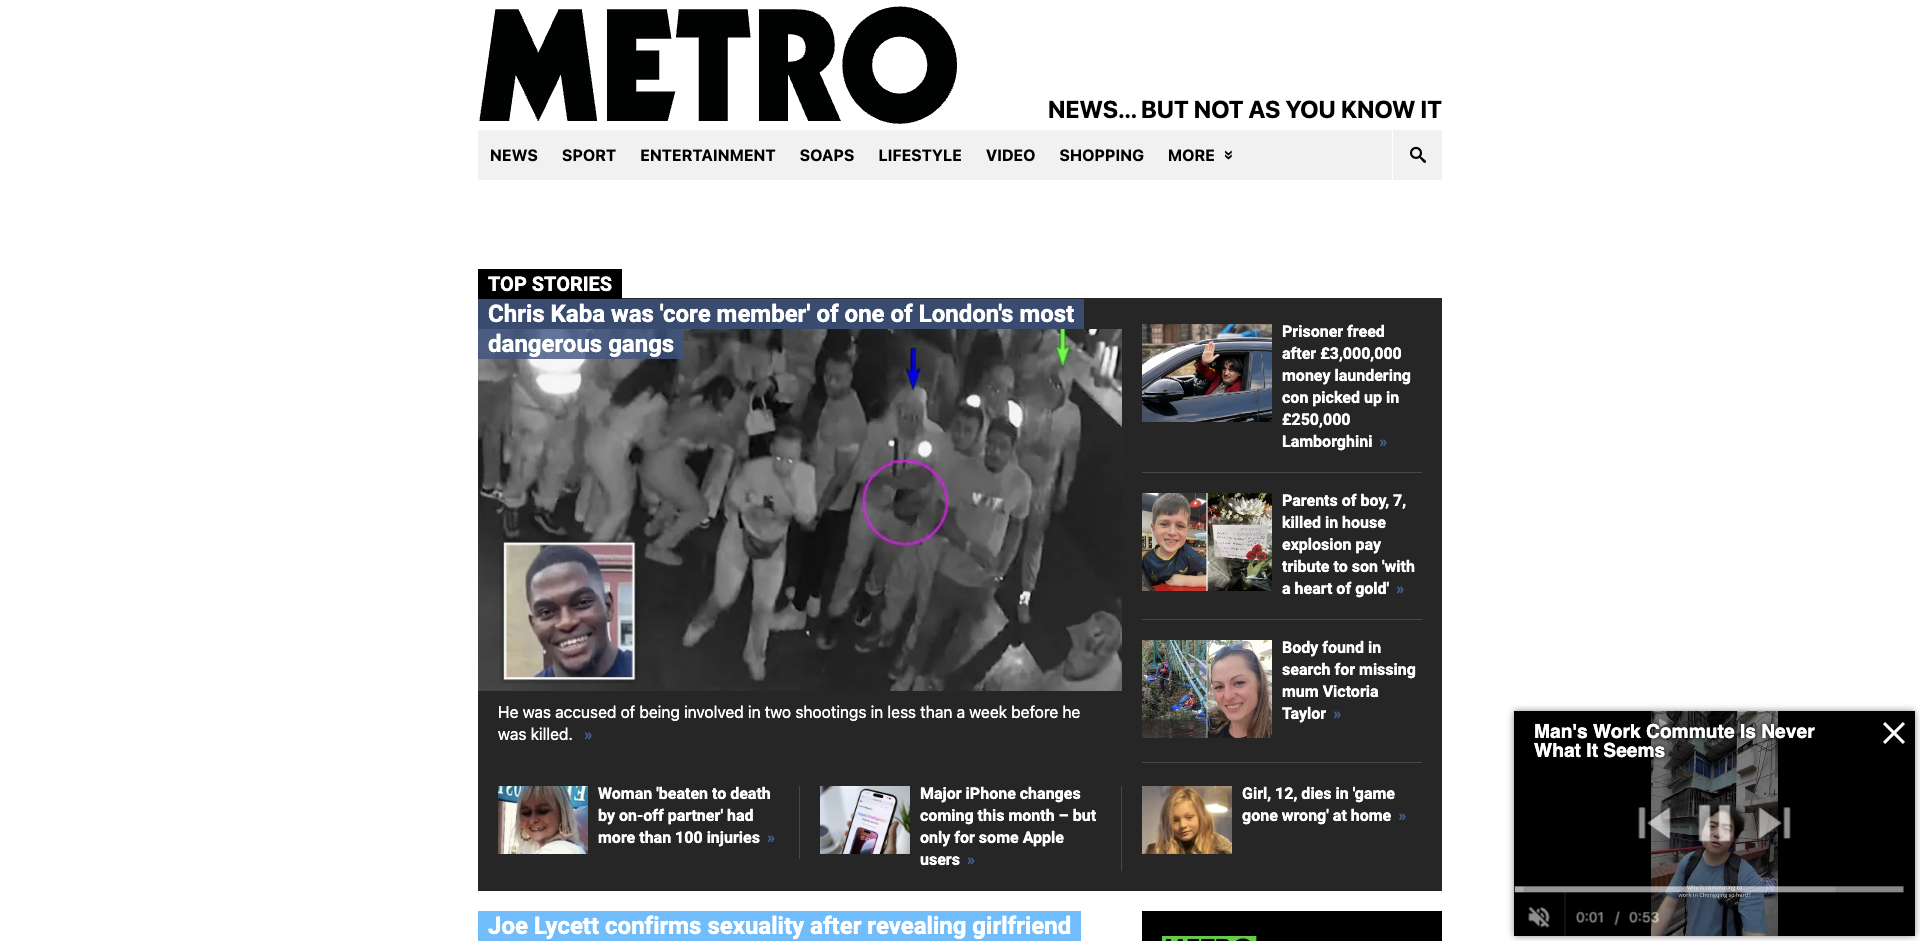button: (871, 494, 1047, 522), (1625, 799, 1685, 849), (1685, 799, 1745, 849), (1745, 799, 1805, 849), (1513, 892, 1564, 941), (871, 494, 984, 506)
link: (478, 330, 1122, 691), (478, 5, 960, 126), (489, 299, 1074, 359), (498, 703, 1080, 744), (489, 912, 1071, 941), (1282, 322, 1411, 451), (920, 784, 1096, 869), (1282, 491, 1416, 598), (1142, 323, 1272, 421), (1142, 493, 1272, 591), (1142, 640, 1272, 738), (1534, 720, 1815, 761), (1282, 638, 1416, 723), (598, 784, 778, 847), (1142, 912, 1442, 941), (628, 130, 787, 180), (1242, 784, 1409, 826), (498, 787, 588, 854), (820, 787, 910, 854), (1142, 787, 1232, 854), (1047, 130, 1156, 180), (867, 130, 973, 180), (1156, 130, 1248, 180), (787, 130, 867, 180), (550, 130, 628, 180), (973, 130, 1047, 180), (478, 130, 550, 180), (1392, 130, 1442, 180), (1030, 361, 1065, 397)
menu_item: (628, 130, 787, 180), (1047, 130, 1156, 180), (867, 130, 973, 180), (1156, 130, 1248, 180), (787, 130, 867, 180), (550, 130, 628, 180), (973, 130, 1047, 180), (478, 130, 550, 180), (1392, 130, 1442, 180)
slider: (1526, 886, 1903, 892)
